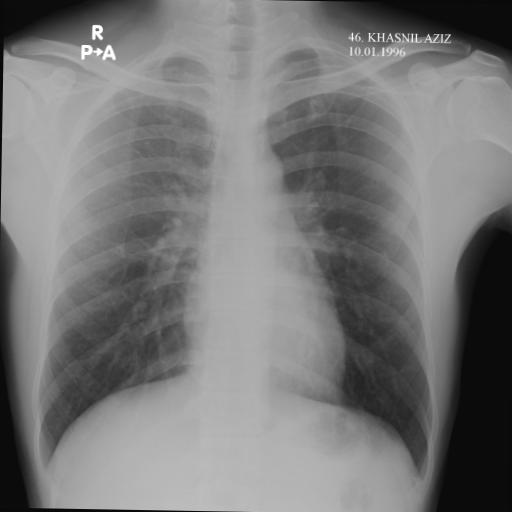normal: (18, 22, 446, 496)
